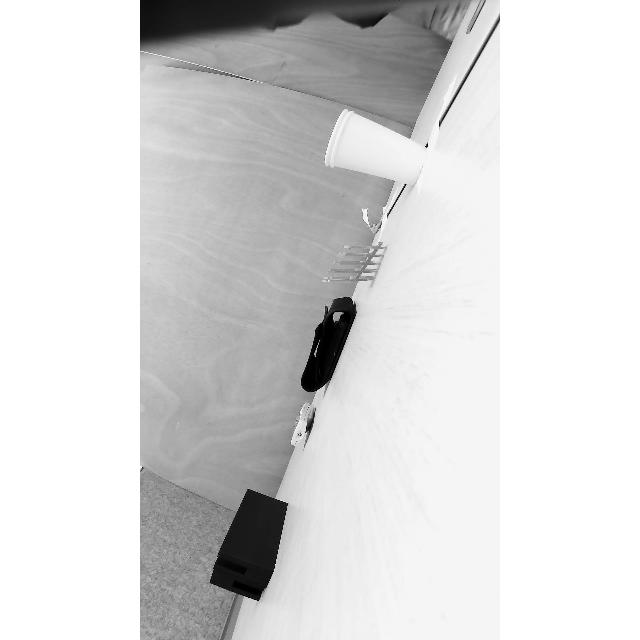targets: (324, 107, 438, 191), (207, 488, 287, 600), (300, 294, 380, 394), (324, 244, 394, 288), (290, 404, 318, 448)
